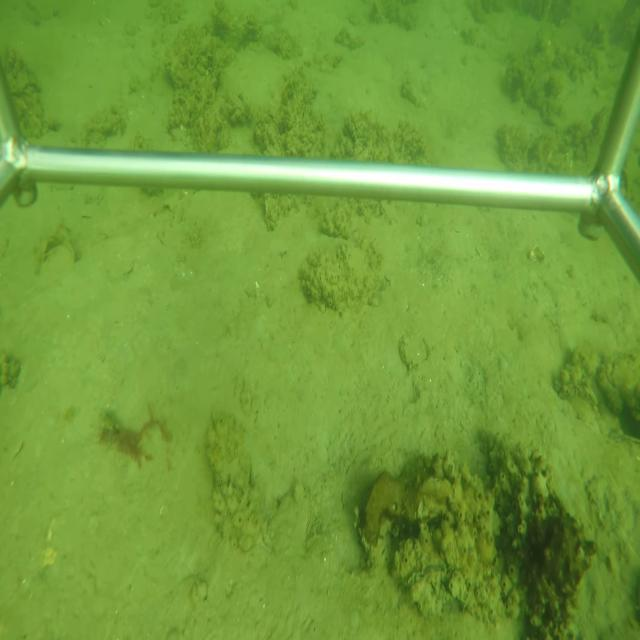Oyster-Closed: (397, 557, 448, 621), (549, 468, 594, 533), (399, 329, 429, 369)
